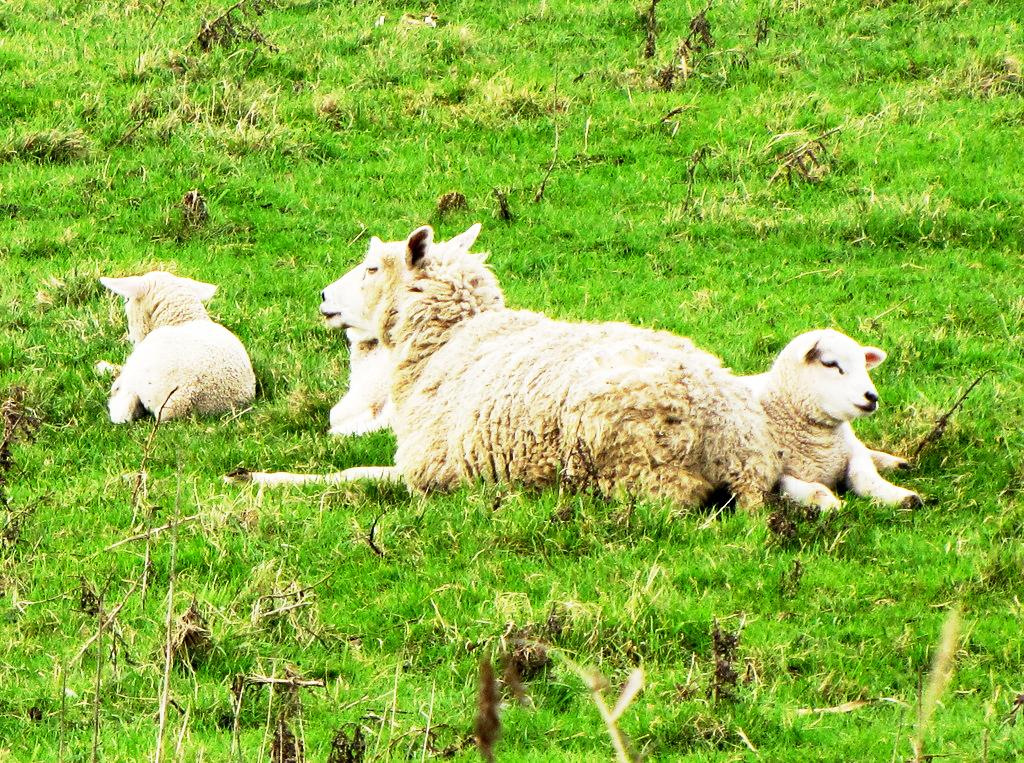Sheep: (221, 223, 770, 528), (737, 327, 921, 518), (96, 276, 257, 426), (320, 235, 394, 433)
